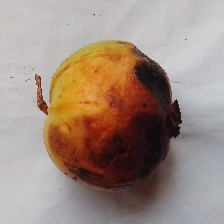guava: (24, 15, 188, 193)
